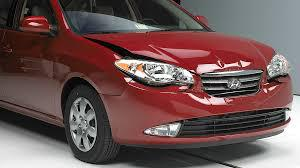bonnet-dent: (93, 29, 219, 82)
